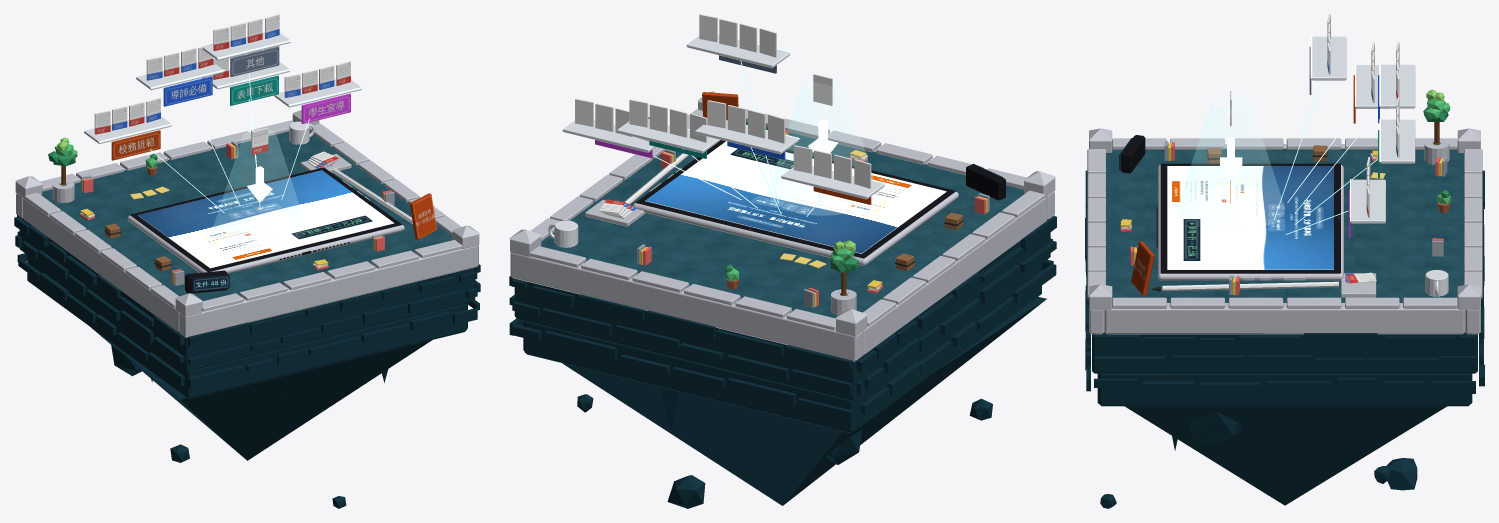
Rendered from tablet.glb.
3 renders of one model, left to right at view 1: azimuth 30°, elevation 25°; view 2: azimuth 150°, elevation 25°; view 3: azimuth 270°, elevation 25°, orthographic. The views are drawn at different scales.
Parts seen in each view (by area): view 1: desk_mat_dark, desk_alu, desk_mat, desk_screen, fx_dbeam_beam, desk_bezel, props_props_palette, fx_cat0_cat_0, fx_cat1_cat_1, fx_cat3_cat_3, fx_cat4_cat_4, fx_cat2_cat_2 (+16 smaller); view 2: desk_mat_dark, desk_alu, desk_mat, desk_screen, fx_dbeam_beam, desk_bezel, props_props_palette, shelf4_shelf, shelf0_shelf, shelf1_shelf, shelf2_shelf, shelf3_shelf (+8 smaller); view 3: desk_mat_dark, desk_alu, desk_mat, desk_screen, fx_dbeam_beam, desk_bezel, props_props_palette, shelf4_shelf, shelf3_shelf, shelf2_shelf, shelf1_shelf, fx_pencil_pen (+7 smaller).
Boxes of the visible parts, x1,y1,x2,y2 form: desk_mat_dark: (14, 214, 480, 508); desk_alu: (15, 110, 479, 337); desk_mat: (41, 131, 452, 300); desk_screen: (138, 170, 394, 268); fx_dbeam_beam: (214, 129, 305, 247); desk_bezel: (130, 167, 402, 293); props_props_palette: (79, 141, 394, 285); fx_cat0_cat_0: (111, 130, 160, 160); fx_cat1_cat_1: (163, 76, 212, 106); fx_cat3_cat_3: (301, 93, 350, 123); fx_cat4_cat_4: (230, 46, 279, 76); fx_cat2_cat_2: (230, 75, 278, 105); desk_mat_dark: (509, 216, 1056, 508); desk_alu: (509, 91, 1055, 361); desk_mat: (541, 121, 1024, 317); desk_screen: (645, 141, 946, 253); fx_dbeam_beam: (769, 75, 877, 214); desk_bezel: (635, 140, 1005, 258); props_props_palette: (637, 129, 989, 308); shelf4_shelf: (686, 35, 790, 68); shelf0_shelf: (781, 166, 884, 199); shelf1_shelf: (695, 121, 798, 154); shelf2_shelf: (617, 120, 720, 153); shelf3_shelf: (562, 119, 655, 152); desk_mat_dark: (1085, 170, 1484, 508); desk_alu: (1087, 128, 1482, 334); desk_mat: (1106, 148, 1463, 302); desk_screen: (1167, 166, 1333, 269); fx_dbeam_beam: (1178, 94, 1284, 230); desk_bezel: (1121, 135, 1340, 273); props_props_palette: (1120, 141, 1451, 295); shelf4_shelf: (1311, 36, 1346, 80); shelf3_shelf: (1350, 179, 1385, 223); shelf2_shelf: (1380, 119, 1415, 163); shelf1_shelf: (1380, 64, 1415, 108); fx_pencil_pen: (1162, 281, 1338, 291).
Bounding box in the file's own units: 4.08 × 5.45 × 4.08.
28 materials, 19 textured.
